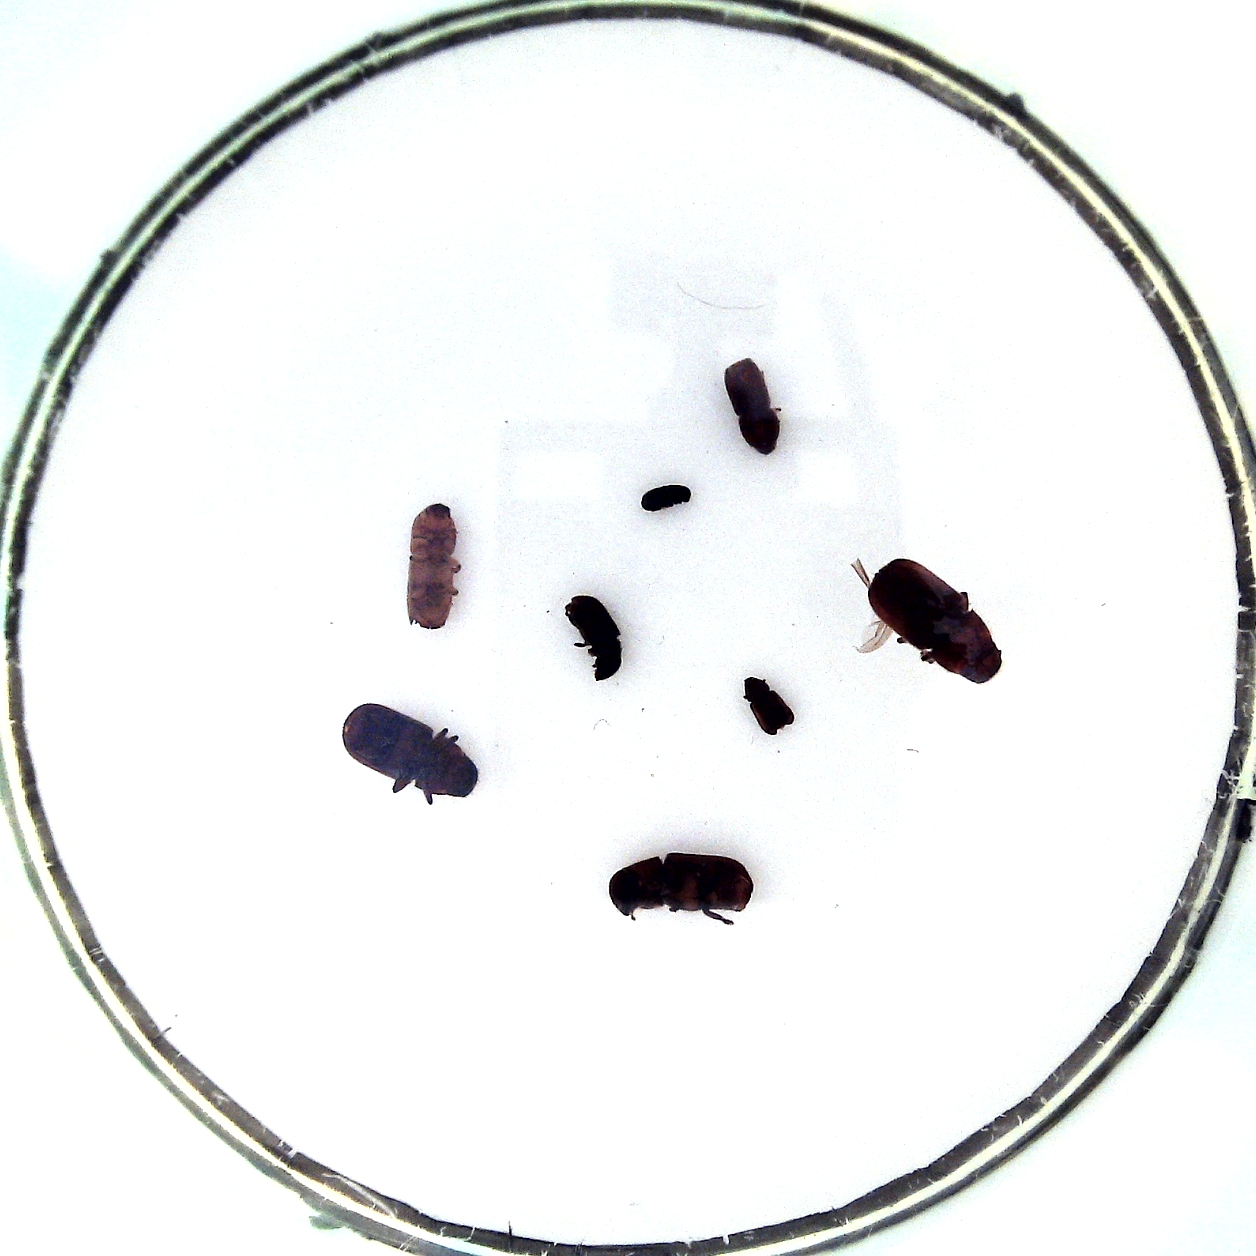Boerner: (406, 503, 459, 630)
Leconte: (871, 558, 1003, 686), (342, 700, 478, 798), (608, 852, 753, 916)
acuminatus: (640, 484, 691, 511)
armandi: (565, 596, 622, 680)
coleoptera: (744, 677, 795, 735)
linnaeus: (723, 358, 780, 455)
